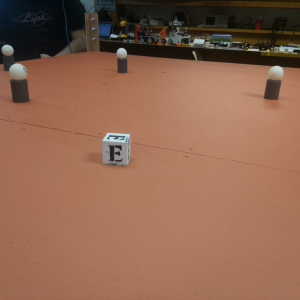blockE: (101, 133, 132, 166)
corner: (83, 12, 101, 51)
obstacle: (9, 64, 30, 104), (264, 66, 283, 101), (1, 44, 16, 71), (117, 47, 128, 74)
